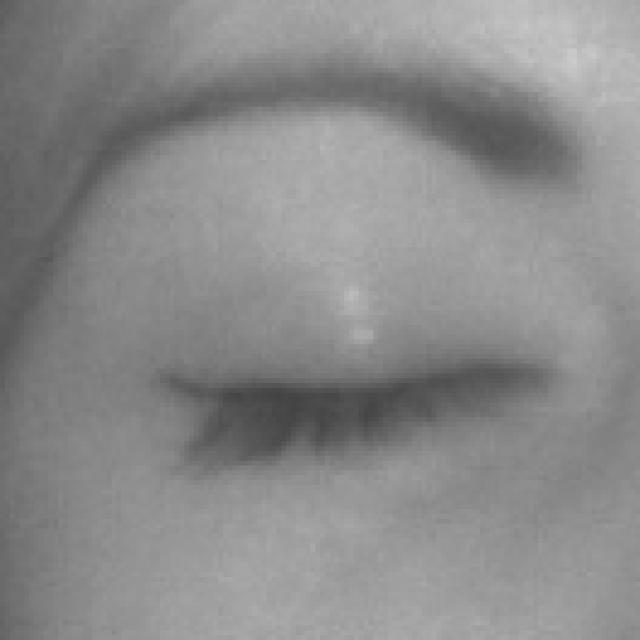Eyeclosed: (156, 222, 554, 570)
